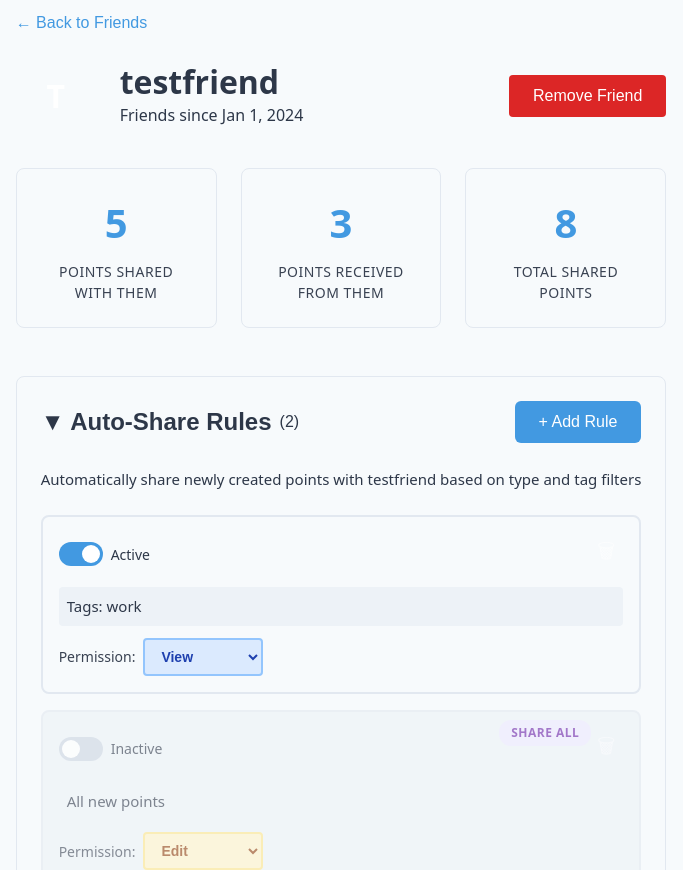
Test: FriendDetailPage - Optimistic Updates › reloads rules only on API failure
Expected: the text "Tags: work" is shown, [59,587,623,626]
What coordinates should you click on to do the following:
click the 1st checkbox
I would click on:
 (81, 554)
Its box is [59,542,103,566].
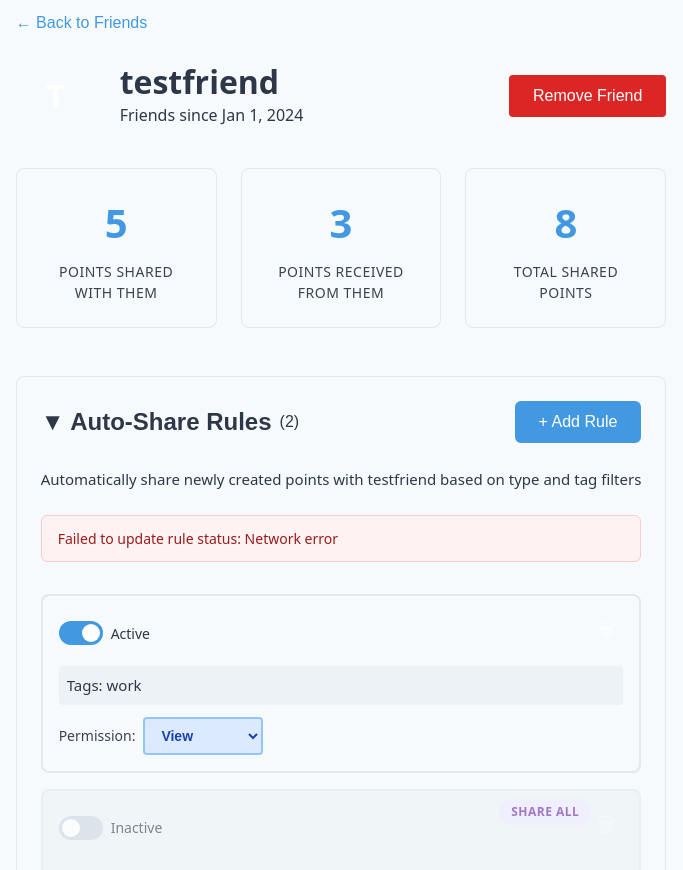
Expected: the text "Failed to update rule status: Network error" is shown, [41,515,641,562]
